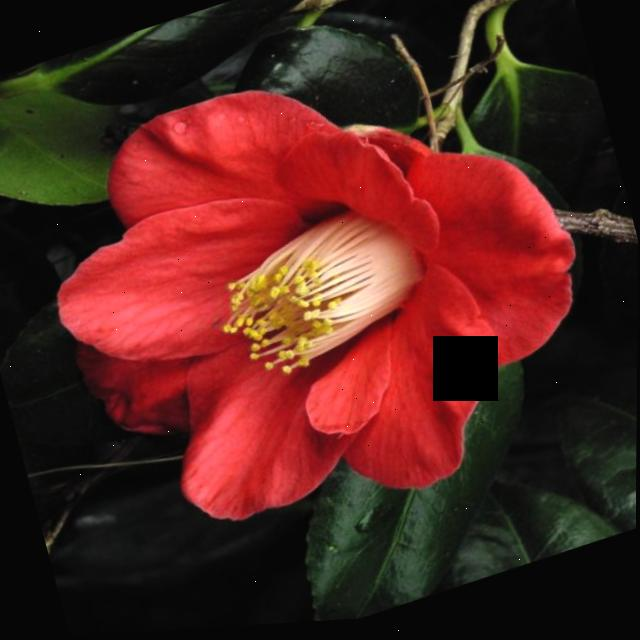bougainvillea: (0, 0, 640, 608)
